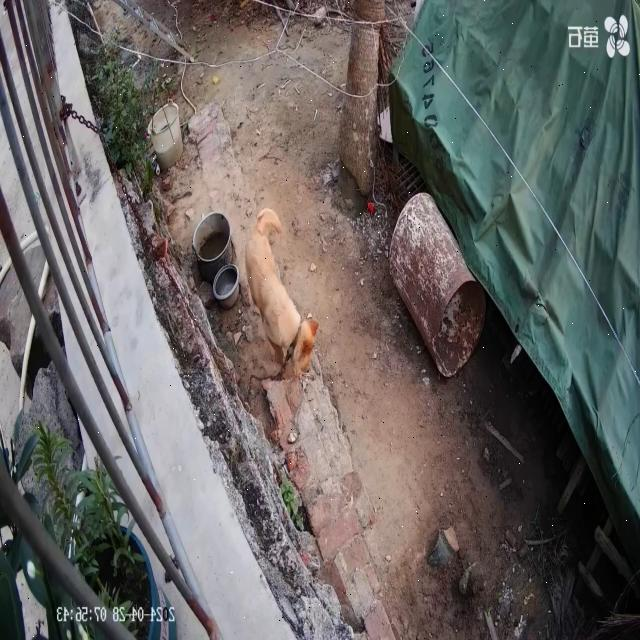dog: (246, 208, 320, 378)
